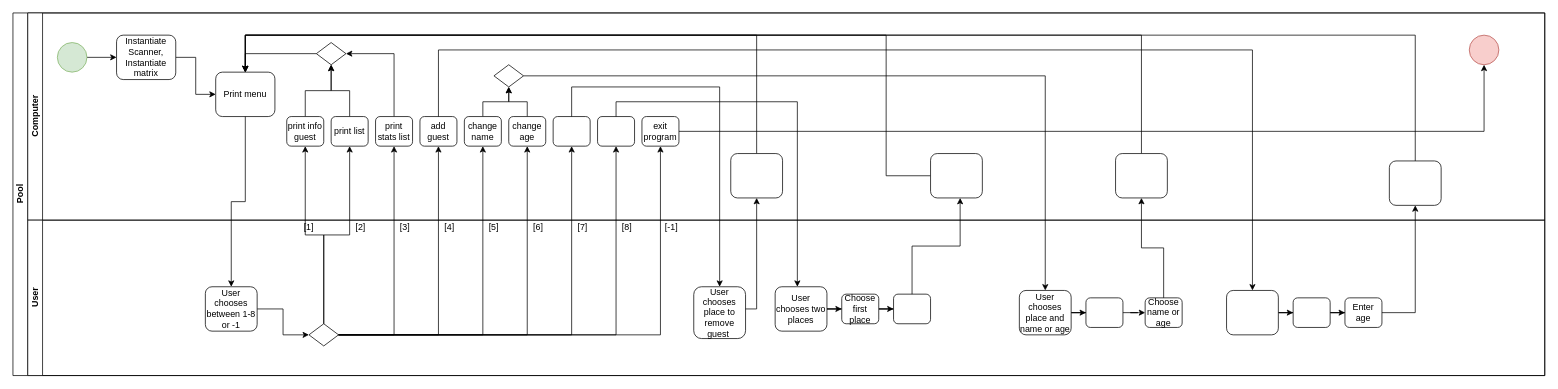
Image size: 1558x389. Some labels were removed from this diagram. Each missing label, with the box of its shape:
Adds new guest at first available spot in list: (1389, 160, 1441, 205)
Change name or age at place: (1115, 153, 1167, 198)
Choose place: (1085, 297, 1123, 327)
Choose second place: (893, 293, 931, 324)
Enter name: (1292, 297, 1330, 327)
remove guest: (552, 116, 590, 146)
Remove guest at place: (730, 153, 783, 198)
swap guest: (597, 116, 635, 146)
Swaps places: (930, 153, 982, 198)
User inputs name and age: (1226, 290, 1278, 335)
